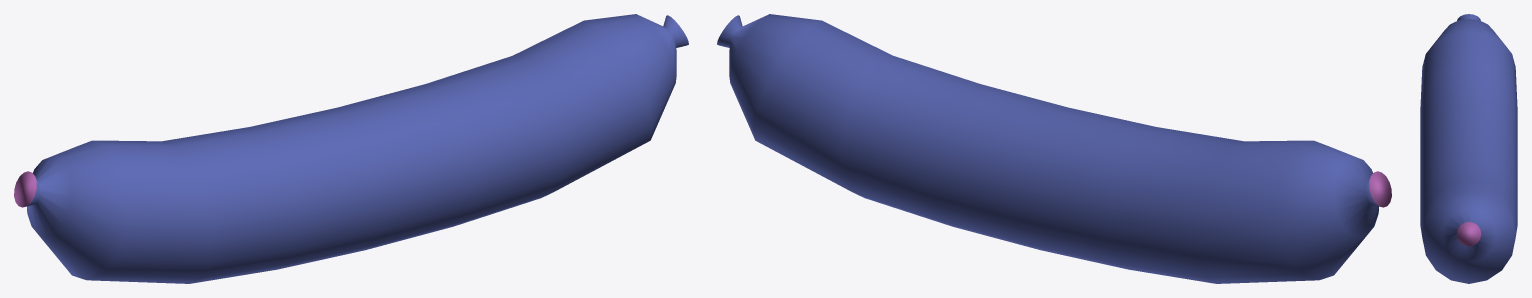
Rendered from RawSausage.fbx.
The picture shows the model from 3 angles, left to right: view 1: azimuth 30°, elevation 25°; view 2: azimuth 150°, elevation 25°; view 3: azimuth 270°, elevation 25°; orthographic projection. The views are drawn at different scales.
Parts seen in each view (by area): view 1: SausageBody; view 2: SausageBody; view 3: SausageBody.
Boxes of the visible parts, x1,y1,x2,y2 form: SausageBody: [14, 14, 688, 283]; SausageBody: [717, 14, 1391, 283]; SausageBody: [1420, 14, 1517, 283].
Size of the model in its own units: 39.32 by 8.99 by 7.47.
